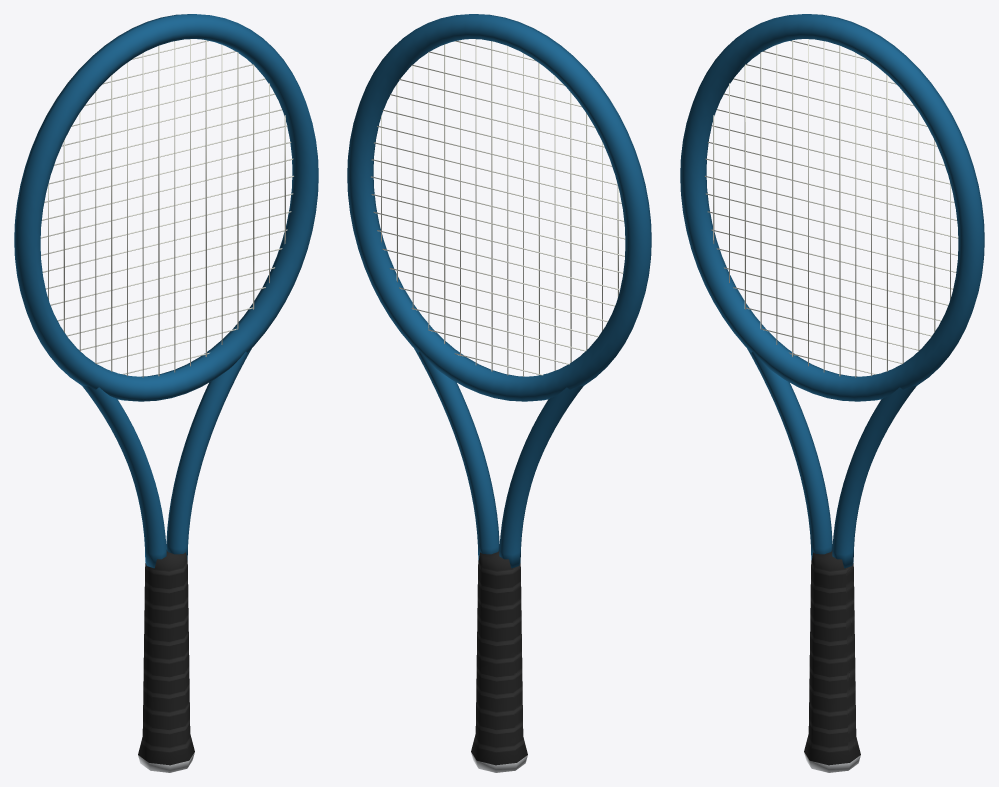
The model's file is TennisRacket.fbx.
3 renders of one model, left to right at view 1: azimuth 30°, elevation 25°; view 2: azimuth 150°, elevation 25°; view 3: azimuth 330°, elevation 25°, orthographic.
Visible parts, largest first — view 1: TennisRacket; view 2: TennisRacket; view 3: TennisRacket.
Part boxes in pixels (x1=…): TennisRacket: x1=14, y1=14, x2=318, y2=772; TennisRacket: x1=347, y1=14, x2=651, y2=772; TennisRacket: x1=680, y1=14, x2=984, y2=772.
Size of the model in its own units: 29 by 68.5 by 4.43.
4 materials, 1 textured.
